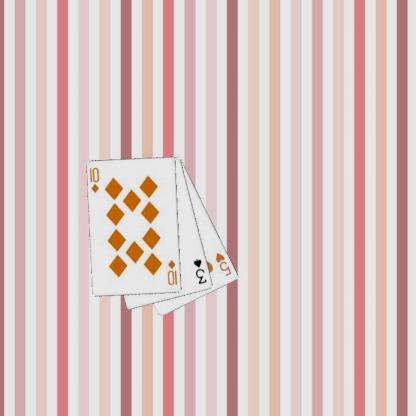10D: (88, 165, 100, 194), (166, 258, 178, 286)
3S: (191, 256, 208, 286)
5H: (213, 250, 233, 277)
